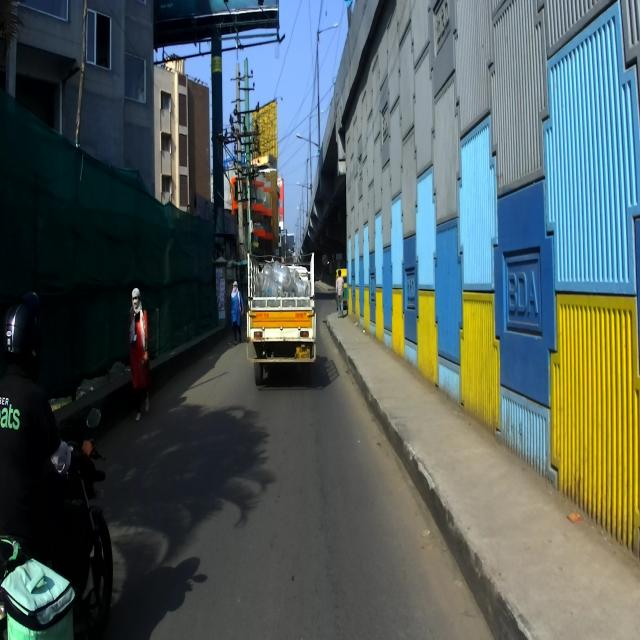motorcycle: (0, 408, 114, 639)
truck: (242, 234, 319, 391)
